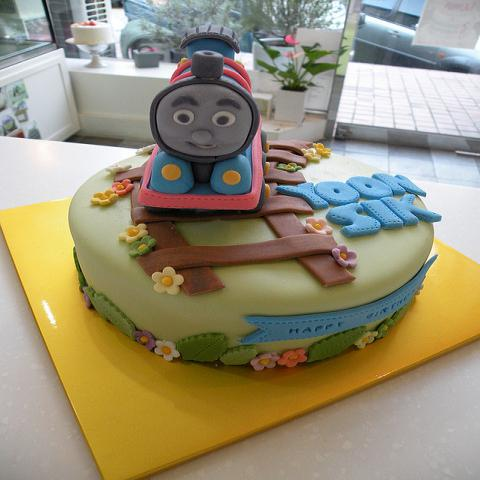car: (356, 5, 479, 75)
